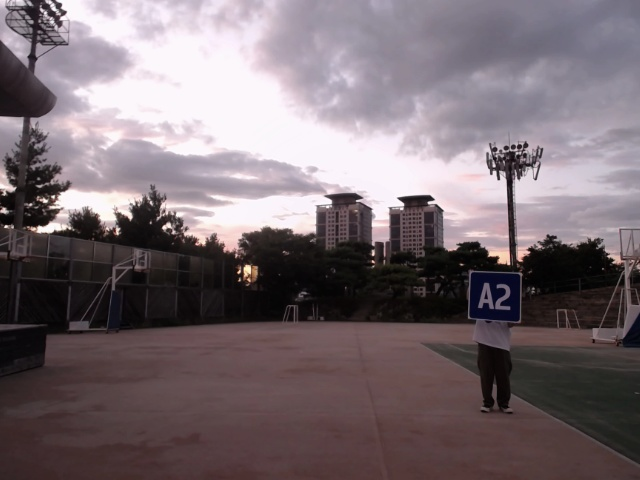delivery_a2: (468, 271, 522, 323)
